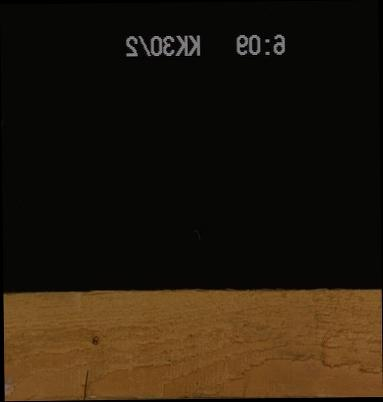dry_knot: (90, 333, 99, 345)
